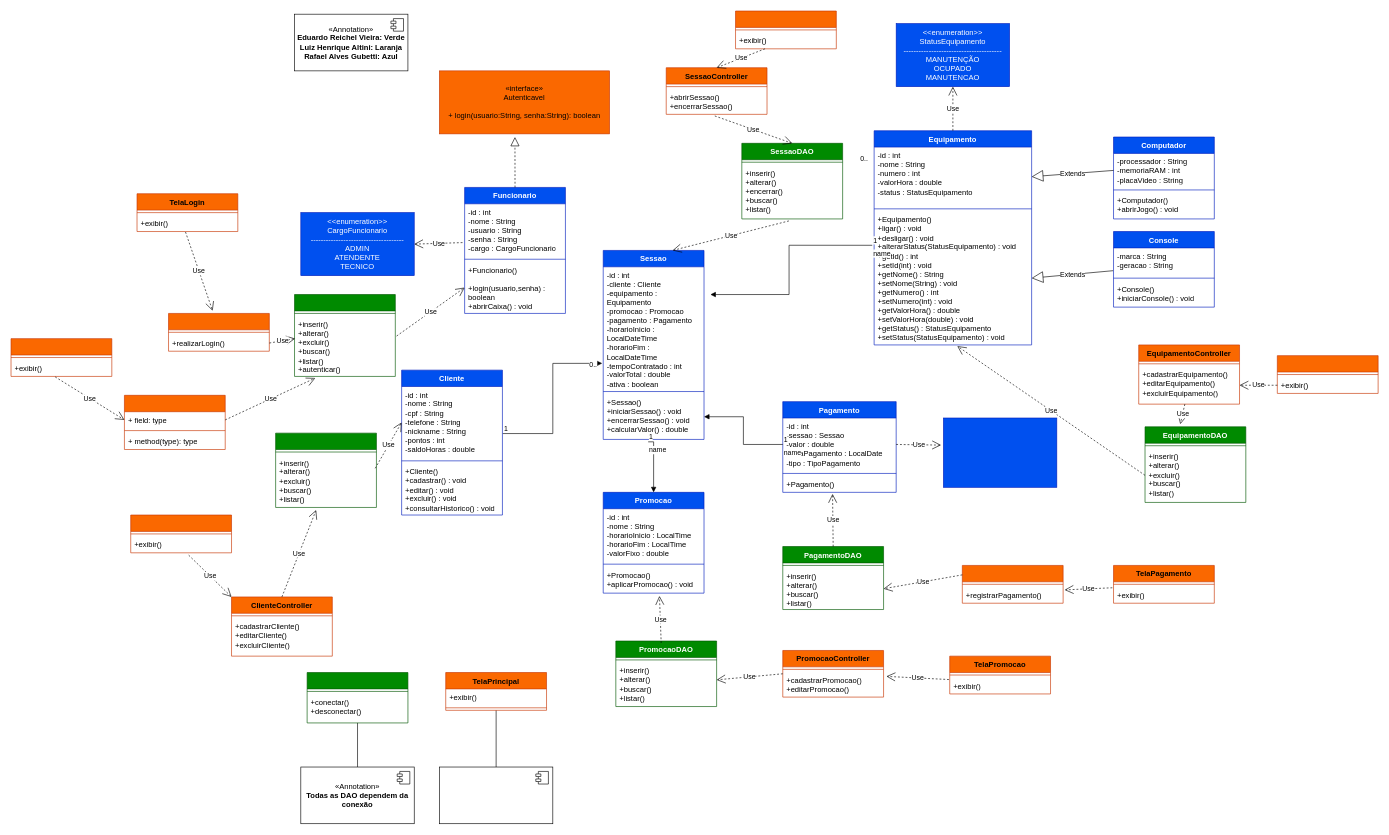
Some shapes in this 1389 by 835 pixel diagram are drawn without their labels. Each missing label, with the box of its shape:
<<enumeration>> TipoPagamento --------------------------- PIX DINHEIRO CARTÃO: (943, 417, 1057, 487)
ClienteDAO: (275, 432, 376, 507)
ConexaoMySQL: (306, 672, 408, 723)
FuncionarioController: (124, 395, 225, 450)
FuncionarioDAO: (294, 294, 395, 376)
LoginController: (168, 313, 269, 351)
PagamentoController: (962, 565, 1063, 603)
TelaCliente: (130, 514, 232, 553)
TelaEquipamento: (1277, 355, 1378, 393)
TelaFuncionario: (10, 338, 112, 376)
TelaSessao: (735, 10, 836, 49)
«Annotation» A Tela Principal depende de todas as telas: (439, 766, 553, 824)
